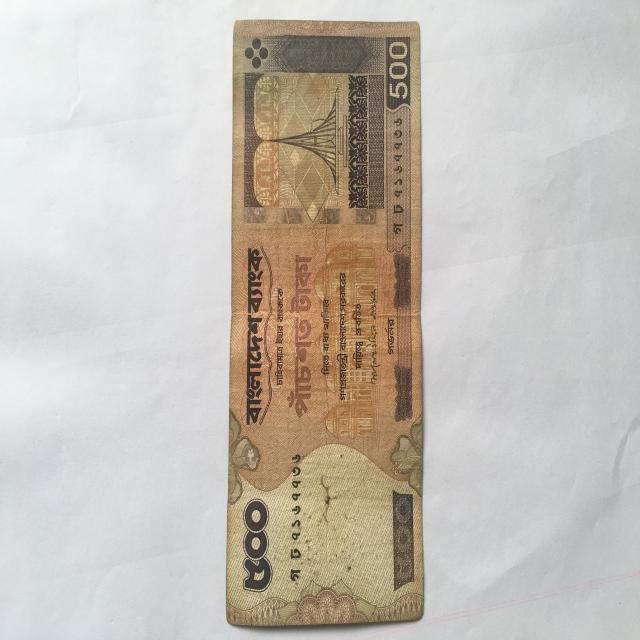Taka: (226, 9, 425, 630)
